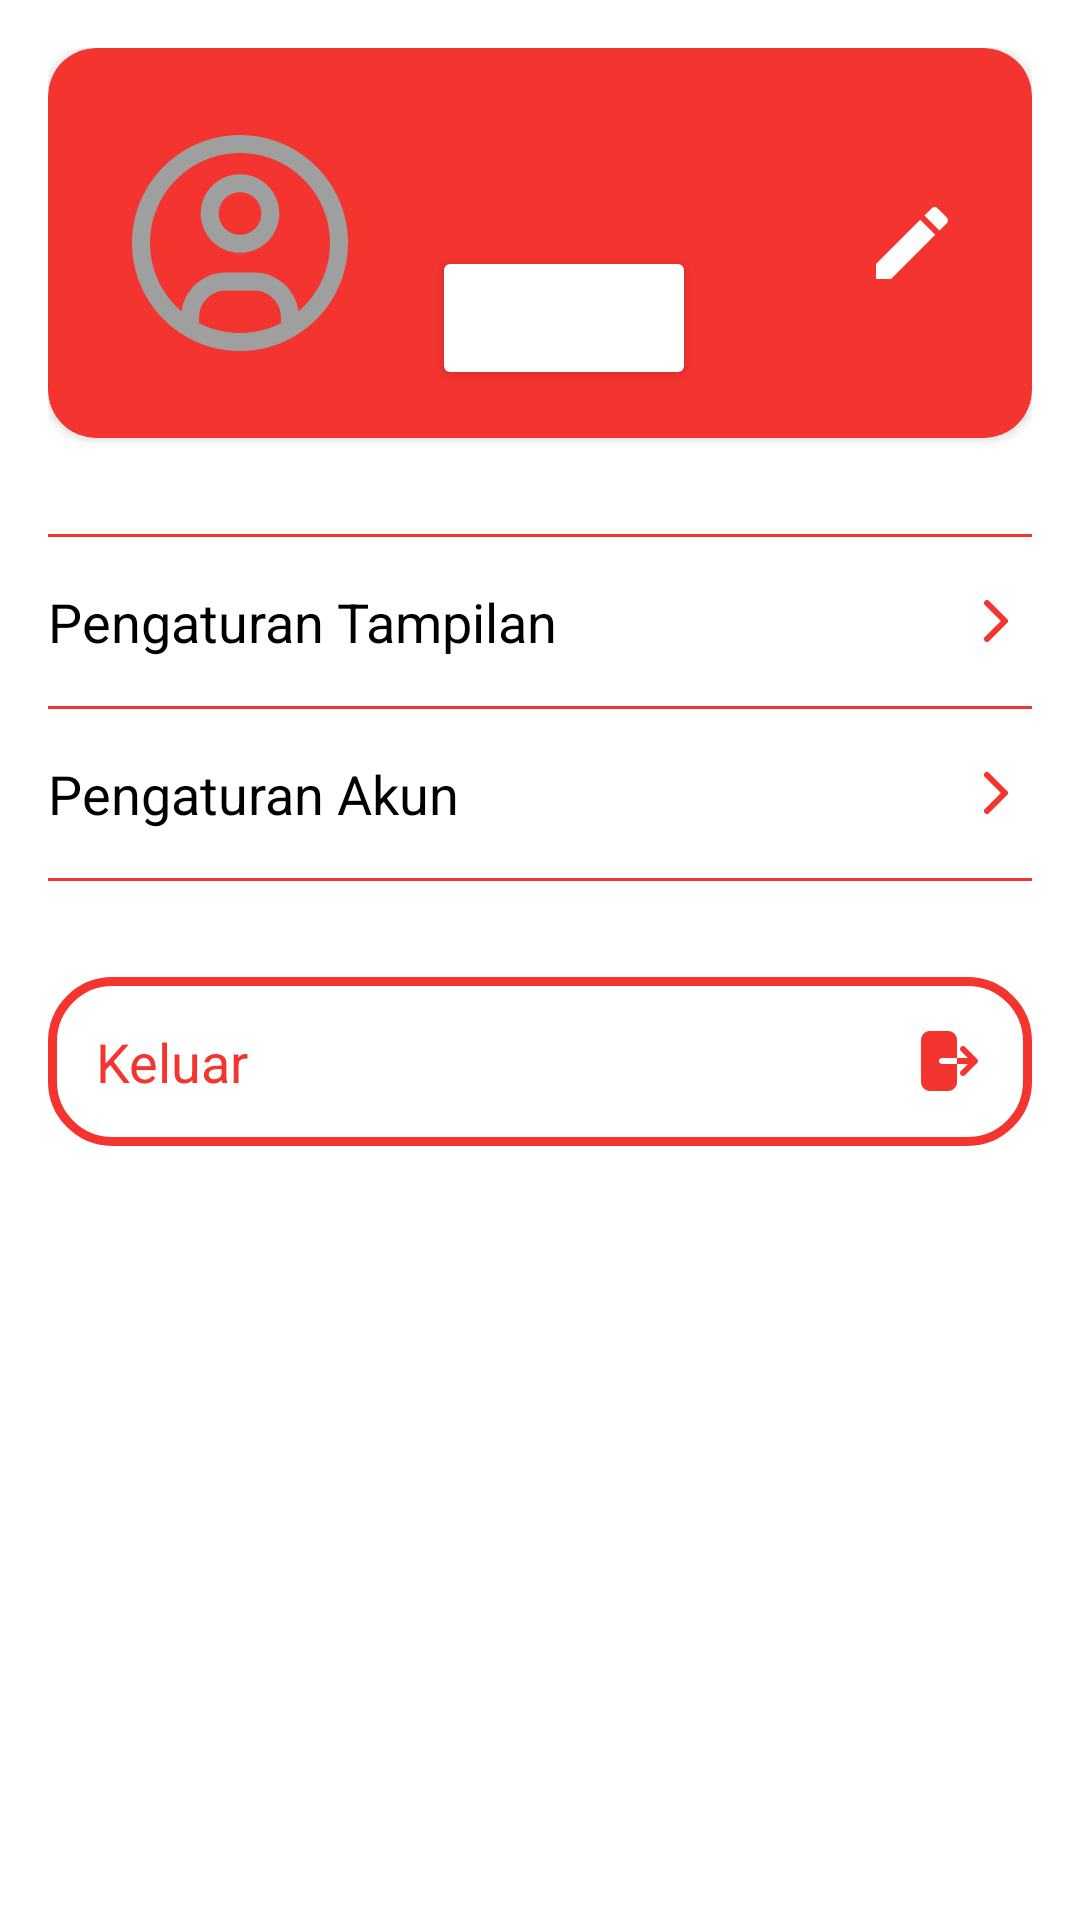

Icons on this 1080 × 1920 Android screen, each with its box as box(x1, y1, x2, y2):
edit: box(876, 207, 948, 279)
profile: box(132, 135, 348, 351)
